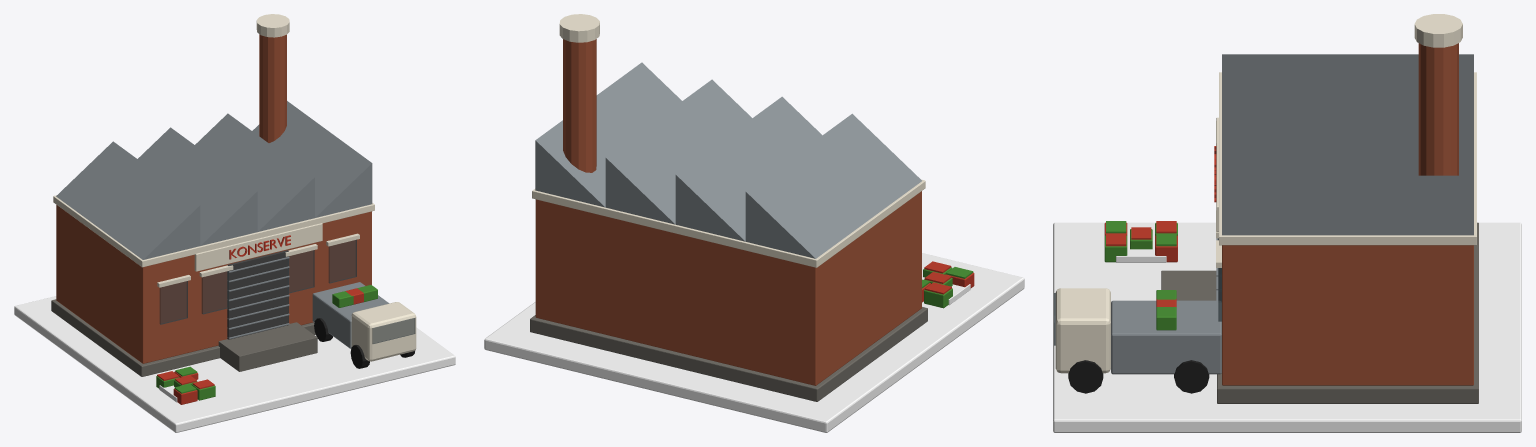
File: fabrika.glb
The picture shows the model from 3 angles, left to right: view 1: azimuth 30°, elevation 25°; view 2: azimuth 150°, elevation 25°; view 3: azimuth 270°, elevation 25°; orthographic projection. The views are drawn at different scales.
Parts seen in each view (by area): view 1: Baca; view 2: Baca; view 3: Baca.
Part boxes in pixels (x1,y1,x2,y2): Baca: [14, 14, 455, 432]; Baca: [484, 14, 1024, 432]; Baca: [1053, 14, 1521, 432].
Size of the model in its own units: 1 by 0.8817 by 1.
